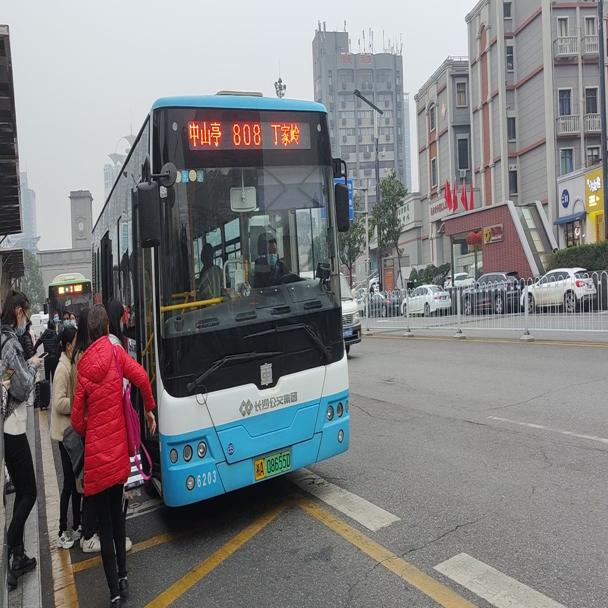bus: (88, 81, 348, 504), (48, 270, 91, 337)
screen: (231, 113, 263, 150)
